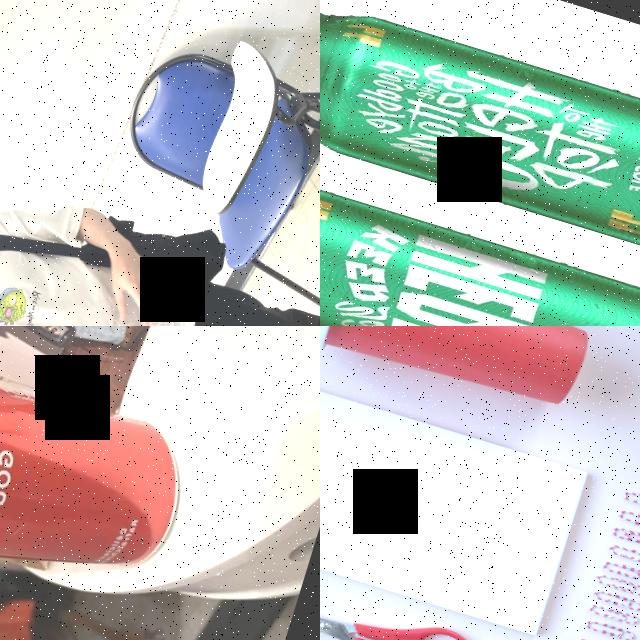can: (320, 0, 640, 284), (0, 326, 207, 640), (320, 159, 640, 326)
cup: (320, 326, 602, 426)
